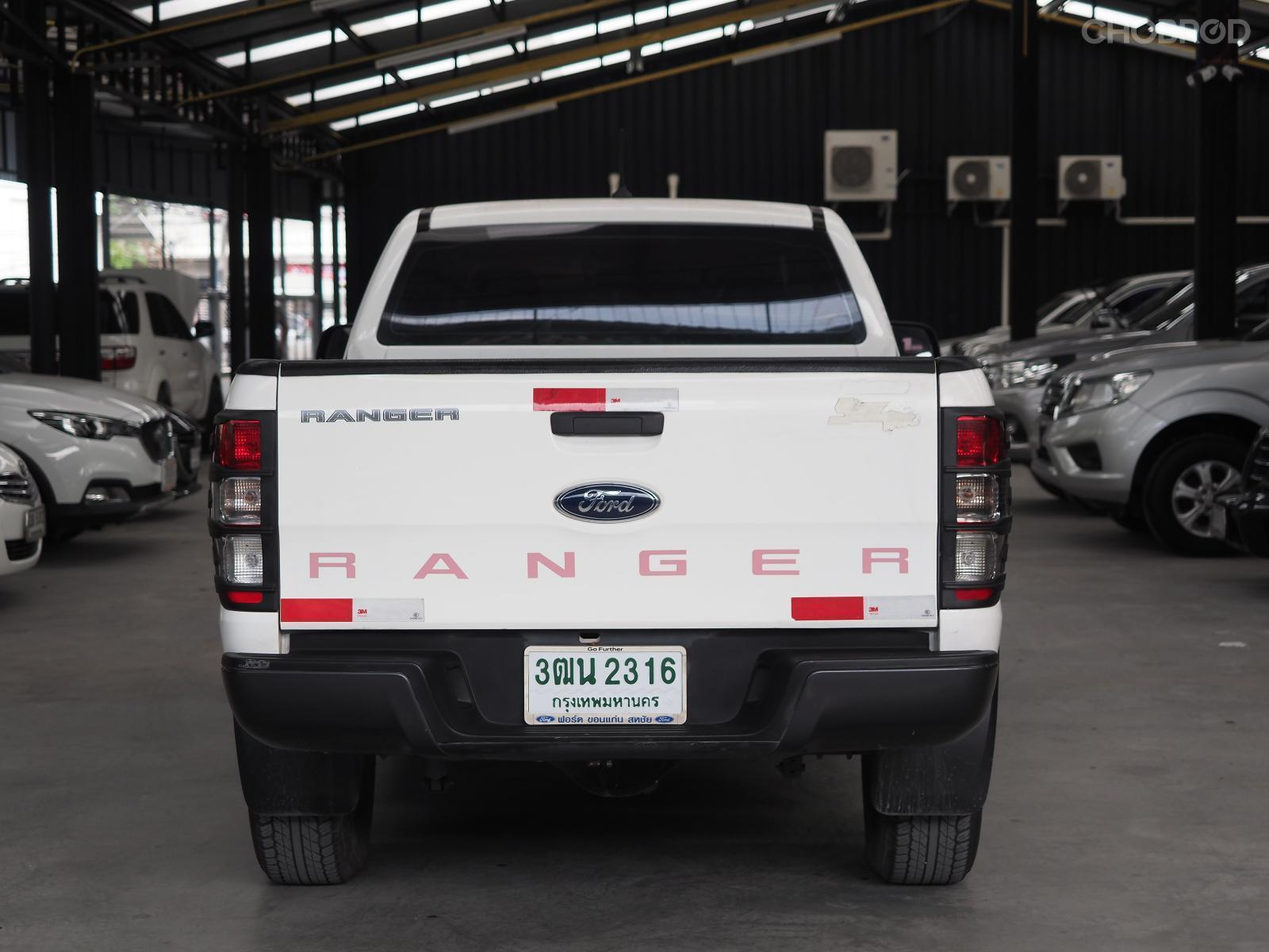license-plate: (521, 637, 690, 732)
